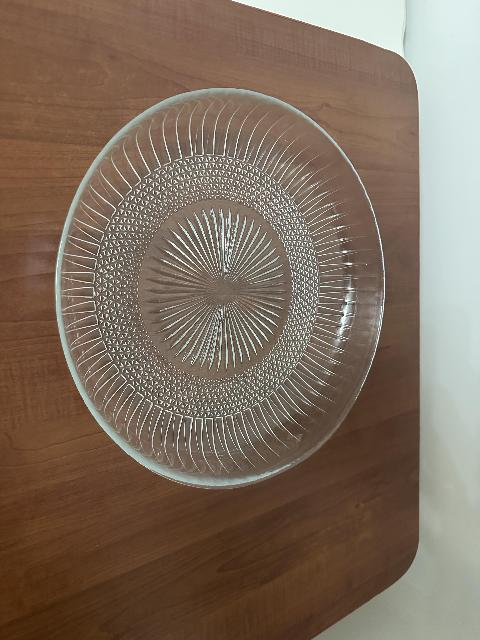Cam: (55, 88, 390, 491)
